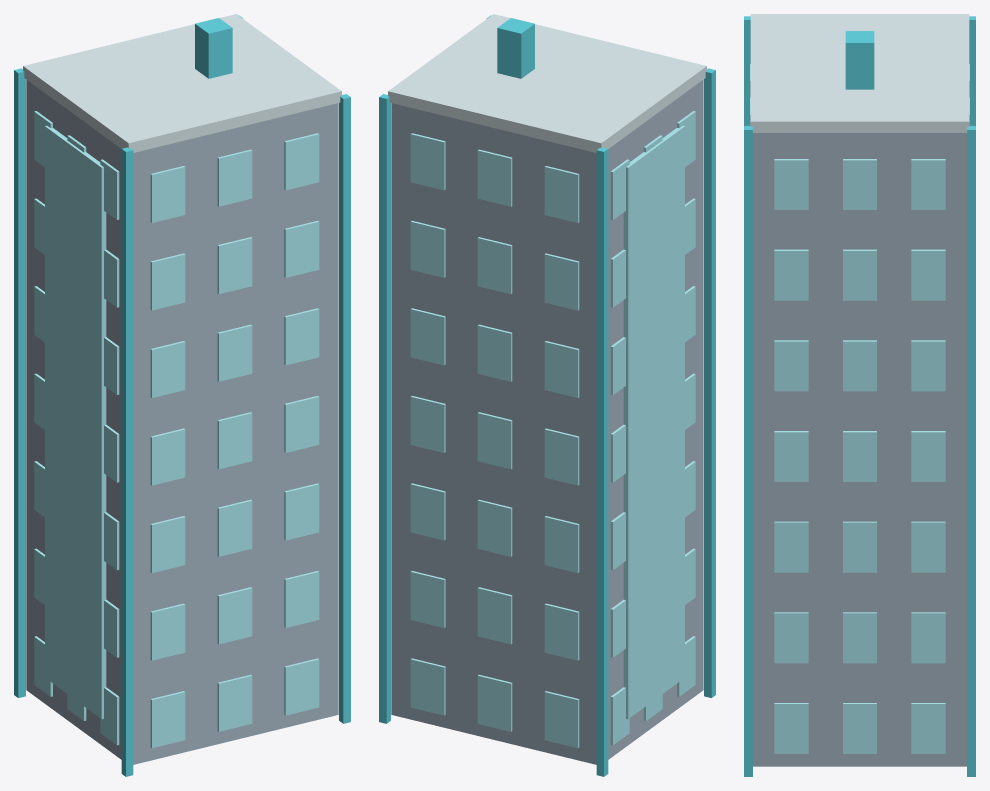
Rendered from office_b.glb.
3 views of the same model, side by side, from view 1: azimuth 30°, elevation 25°; view 2: azimuth 150°, elevation 25°; view 3: azimuth 270°, elevation 25° (orthographic). The views are drawn at different scales.
Size of the model in its own units: 7.53 by 21.6 by 6.49.
